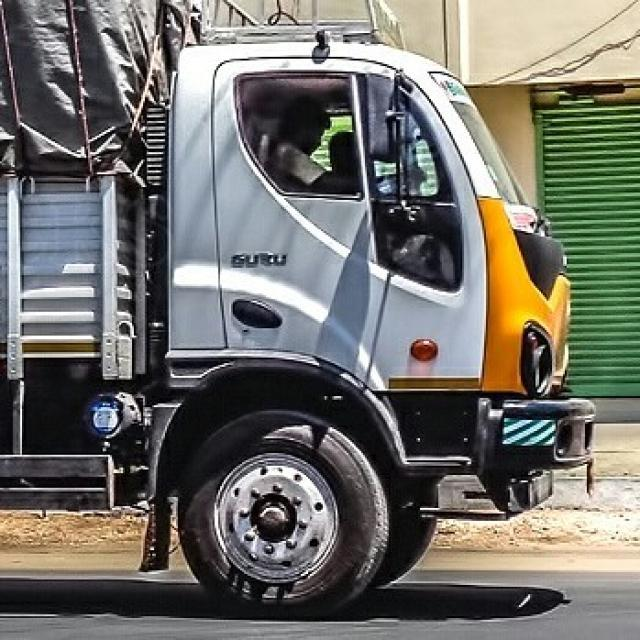Truck: (1, 2, 602, 640)
